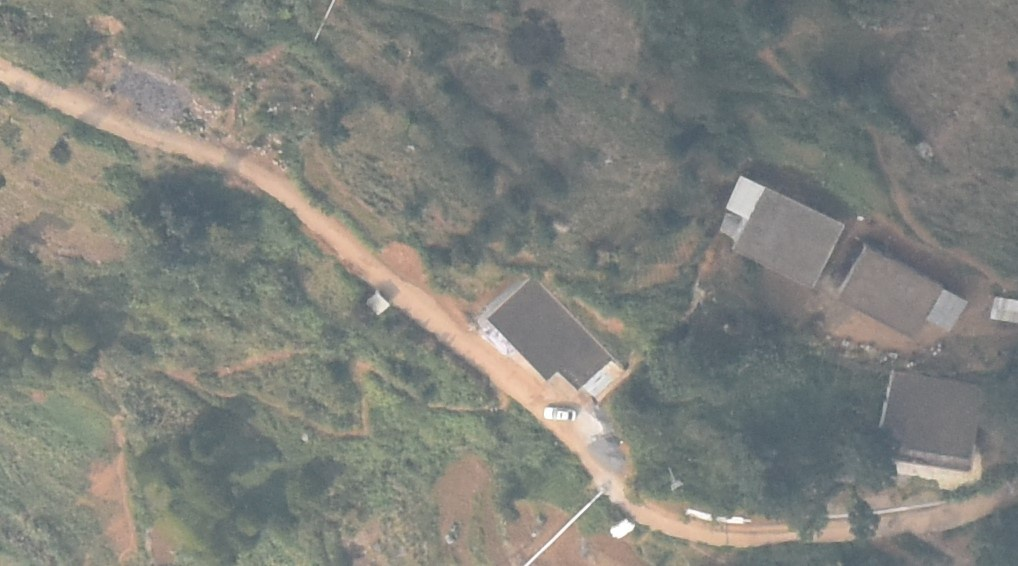building: (485, 276, 611, 393), (720, 175, 843, 290), (837, 241, 969, 338), (879, 368, 982, 468), (367, 289, 390, 315)
cable-tower: (665, 465, 684, 489)
quarry: (107, 63, 207, 138)
vehicle: (543, 406, 577, 421)
